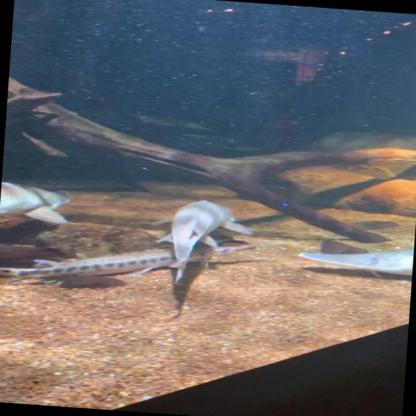fish: (0, 219, 281, 306), (297, 240, 413, 277)
shark: (150, 194, 252, 288)
